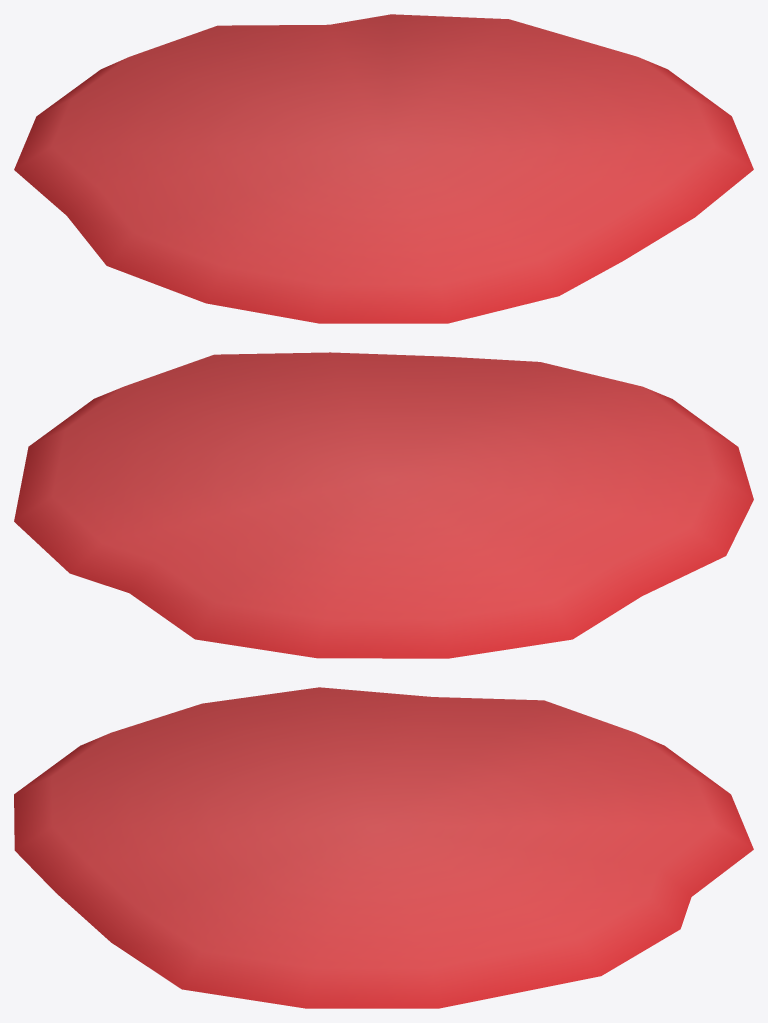
File: food_ingredient_tomato_sauce.obj
3 renders of one model, top to bottom at view 1: azimuth 30°, elevation 25°; view 2: azimuth 150°, elevation 25°; view 3: azimuth 270°, elevation 25°, orthographic. The views are drawn at different scales.
Parts seen in each view (by area): view 1: food_ingredient_tomato_sauce_Cylinder.334; view 2: food_ingredient_tomato_sauce_Cylinder.334; view 3: food_ingredient_tomato_sauce_Cylinder.334.
Boxes of the visible parts, box(x1,y1,x2,y2) form: food_ingredient_tomato_sauce_Cylinder.334: box(14, 14, 753, 323); food_ingredient_tomato_sauce_Cylinder.334: box(14, 352, 753, 658); food_ingredient_tomato_sauce_Cylinder.334: box(14, 687, 753, 1008).
Size of the model in its own units: 1.56 by 0.0546 by 1.55.
Materials: 1 (1 with a texture image).
